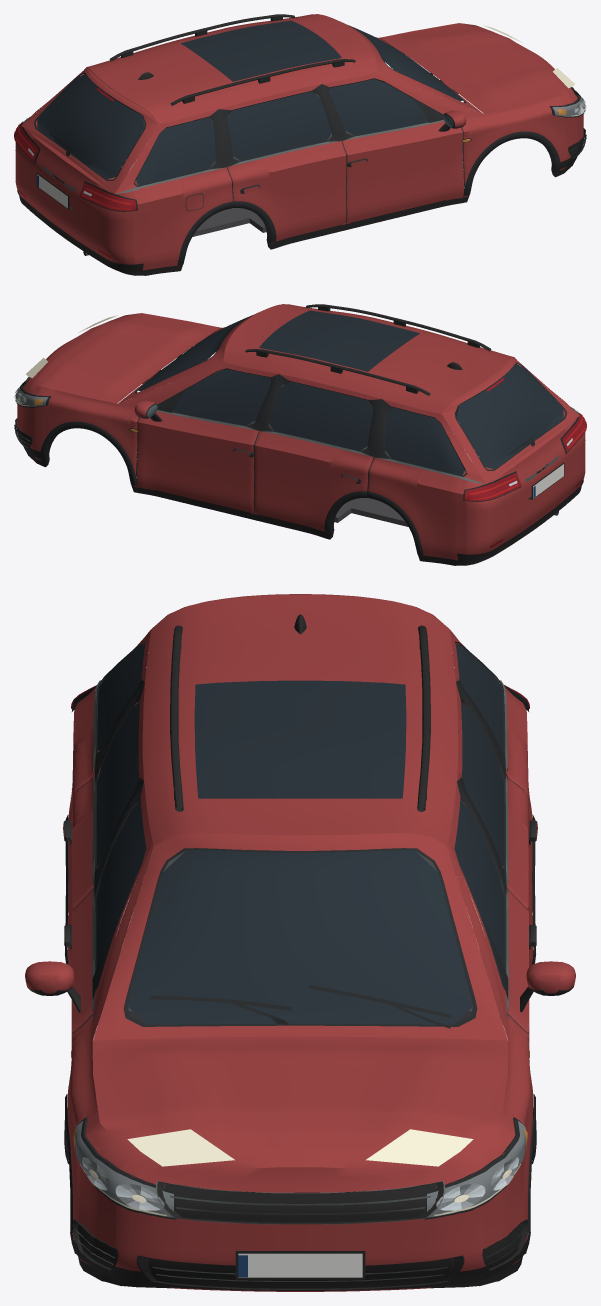
The model's file is suv-street.glb.
3 renders of one model, top to bottom at view 1: azimuth 30°, elevation 25°; view 2: azimuth 150°, elevation 25°; view 3: azimuth 270°, elevation 25°, orthographic. The views are drawn at different scales.
Parts seen in each view (by area): view 1: suv, suv_door4, suv_door2, suv_street_trim; view 2: suv, suv_door3, suv_door1, suv_street_trim; view 3: suv, suv_street_trim, suv_door2, suv_door1, suv_door3, suv_door4.
Boxes of the visible parts, x1,y1,x2,y2 form: suv: [15, 14, 583, 275]; suv_door4: [219, 84, 346, 243]; suv_door2: [322, 73, 466, 224]; suv_street_trim: [14, 45, 586, 271]; suv: [17, 304, 585, 565]; suv_door3: [254, 374, 381, 533]; suv_door1: [134, 363, 278, 514]; suv_street_trim: [14, 347, 586, 561]; suv: [64, 594, 536, 1291]; suv_street_trim: [70, 685, 530, 1290]; suv_door2: [25, 782, 152, 1036]; suv_door1: [448, 782, 575, 1036]; suv_door3: [456, 682, 537, 967]; suv_door4: [63, 682, 144, 967].
Size of the model in its own units: 4.75 by 1.38 by 2.26.
